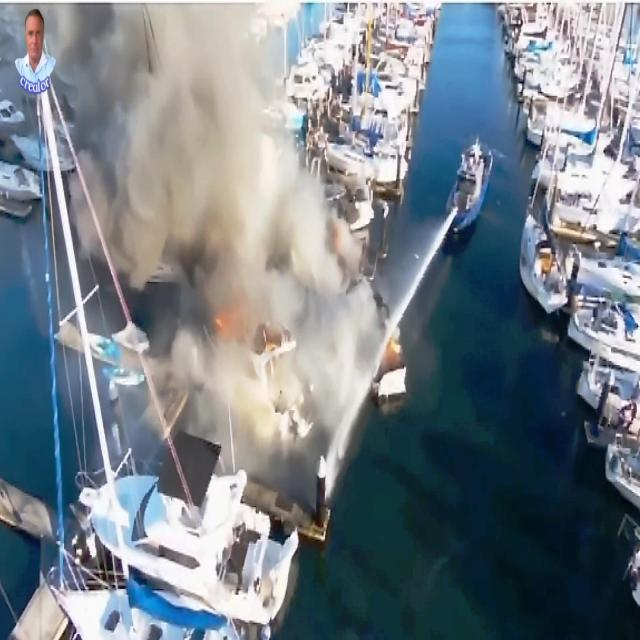Smoke: (57, 5, 379, 494)
